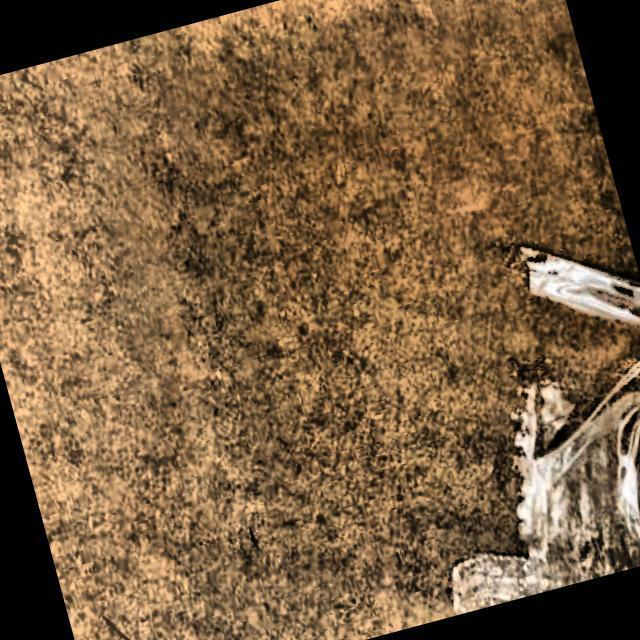cardboard: (0, 0, 640, 640), (365, 217, 640, 616)
